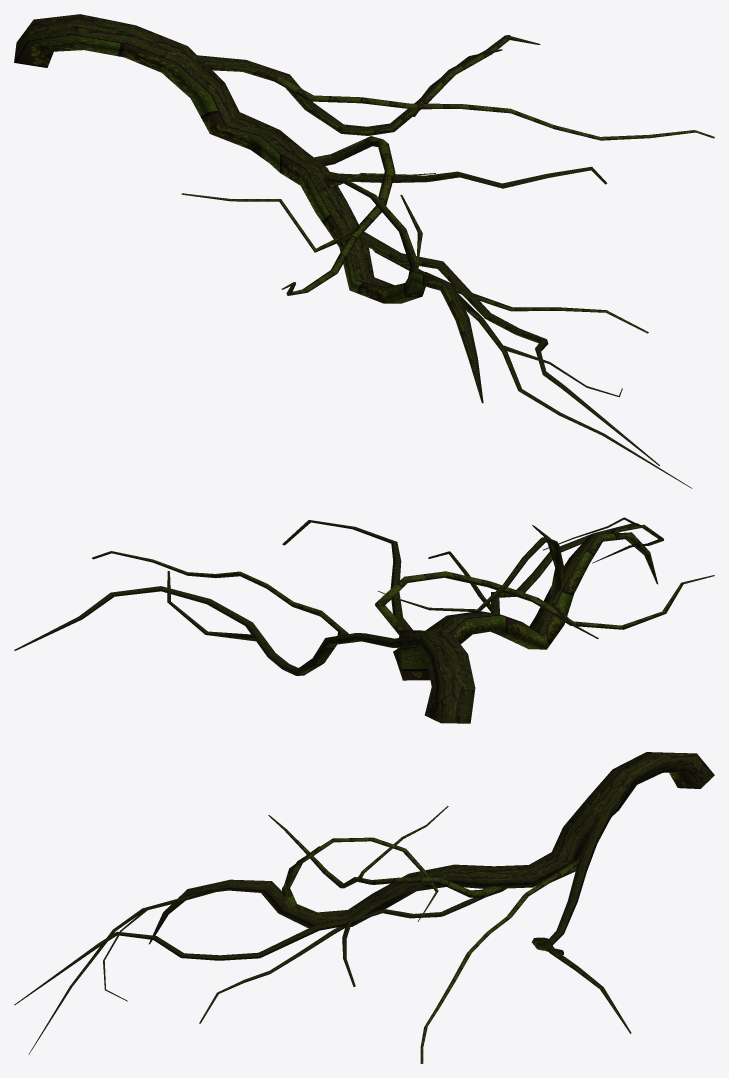
File: Roots_2.fbx
3 views of the same model, one above another, from view 1: azimuth 30°, elevation 25°; view 2: azimuth 150°, elevation 25°; view 3: azimuth 270°, elevation 25° (orthographic). The views are drawn at different scales.
Visible parts, largest first — view 1: Roots_2; view 2: Roots_2; view 3: Roots_2.
Boxes of the visible parts, x1,y1,x2,y2 form: Roots_2: (14,14,714,488); Roots_2: (14,517,714,723); Roots_2: (14,752,714,1063).
Size of the model in its own units: 311 by 138 by 423.
